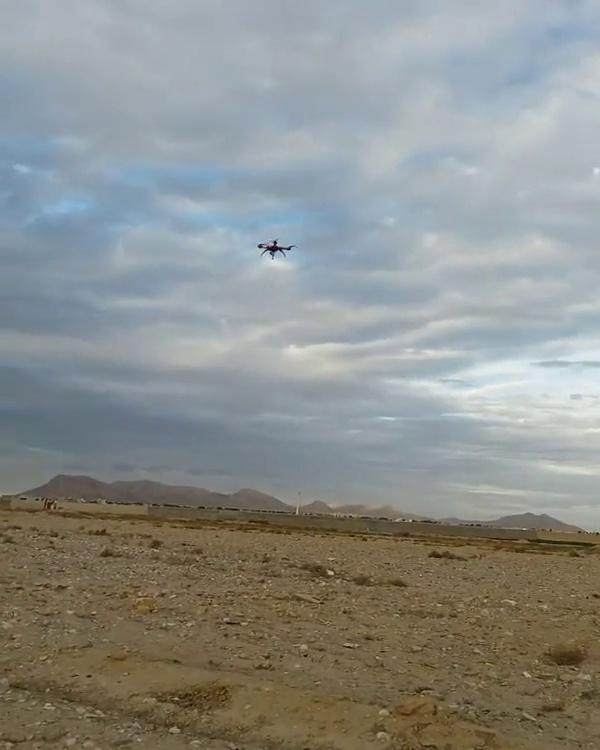drone: (254, 234, 296, 261)
